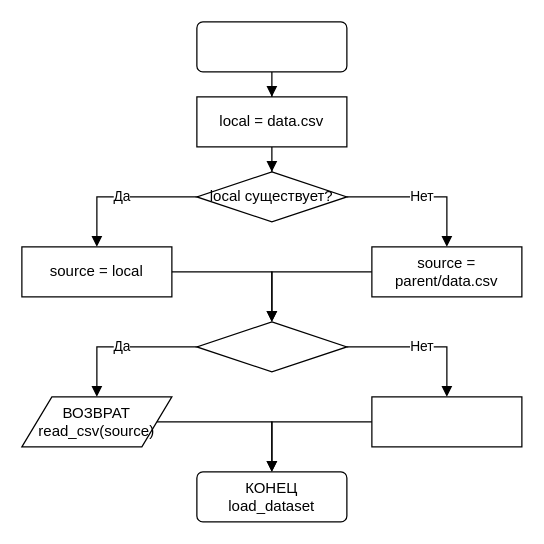
Image size: 544x544. Some labels were removed from this diagram. The box of each missing label's shape, as (x1, y1, x2, y2) in pixels:
load_dataset НАЧАЛО: (196, 21, 347, 72)
source существует?: (196, 321, 347, 372)
Исключение FileNotFound: (371, 396, 522, 447)
